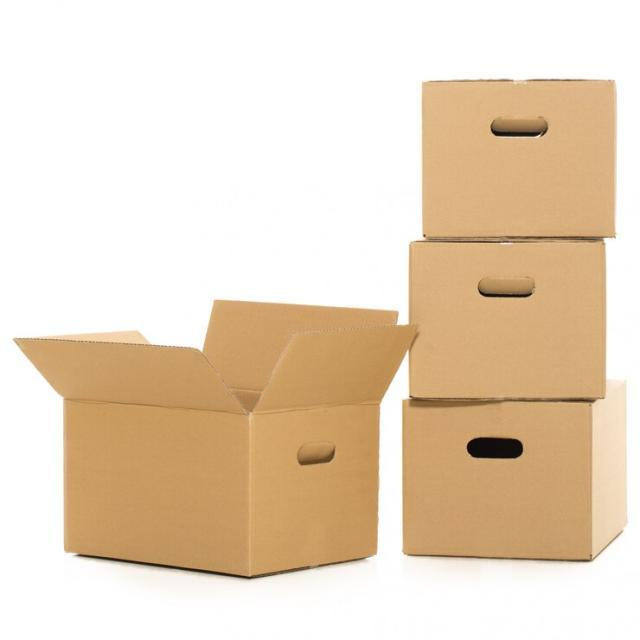BoxFace: (62, 401, 250, 577), (406, 238, 606, 402), (420, 76, 616, 240), (401, 398, 594, 564)
